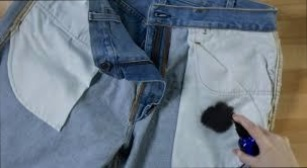ink: (200, 104, 232, 134)
